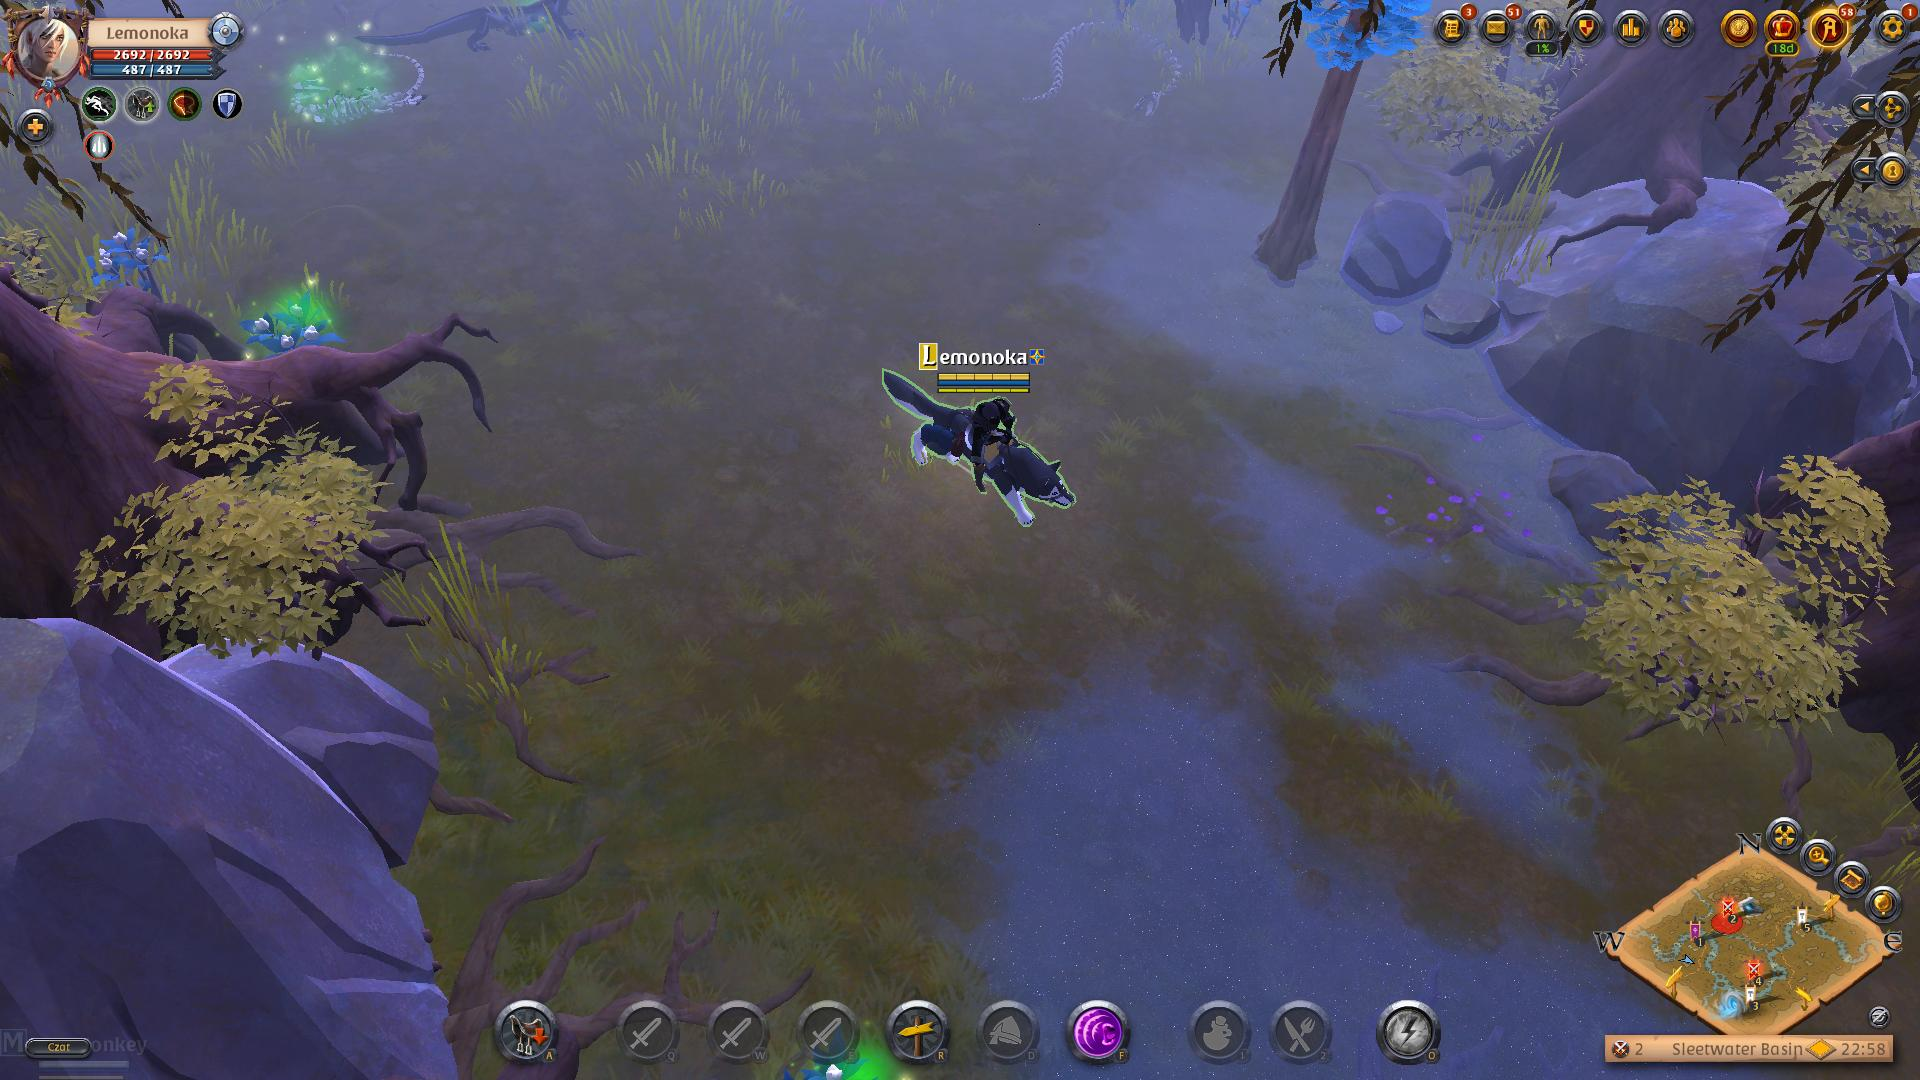fiber tier 4: (90, 222, 165, 289)
